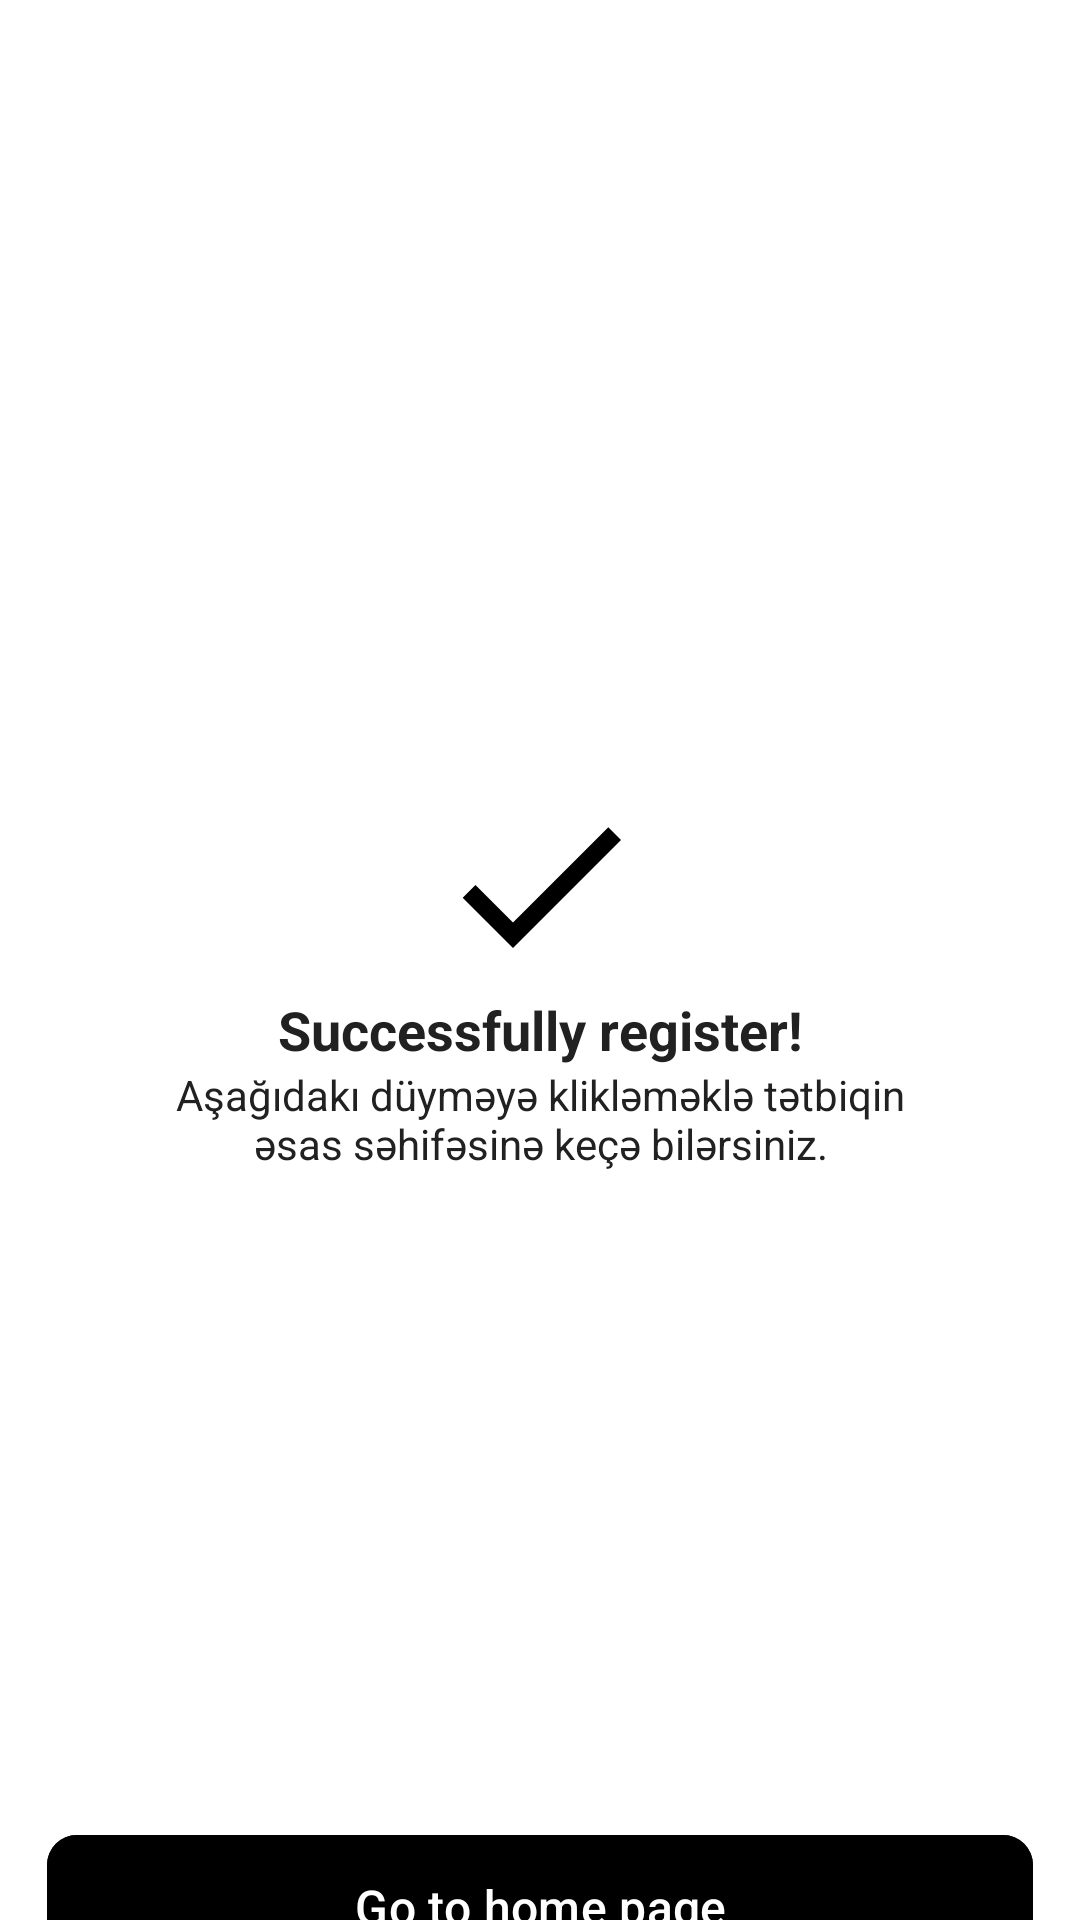

Screen size 1080 x 1920. Icon name, then its center in pixels as point (x, y):
check: point (542, 887)
